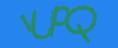Q: (64, 5, 97, 42)
U: (31, 10, 55, 39)
p: (49, 6, 69, 36)
v: (20, 10, 36, 32)
